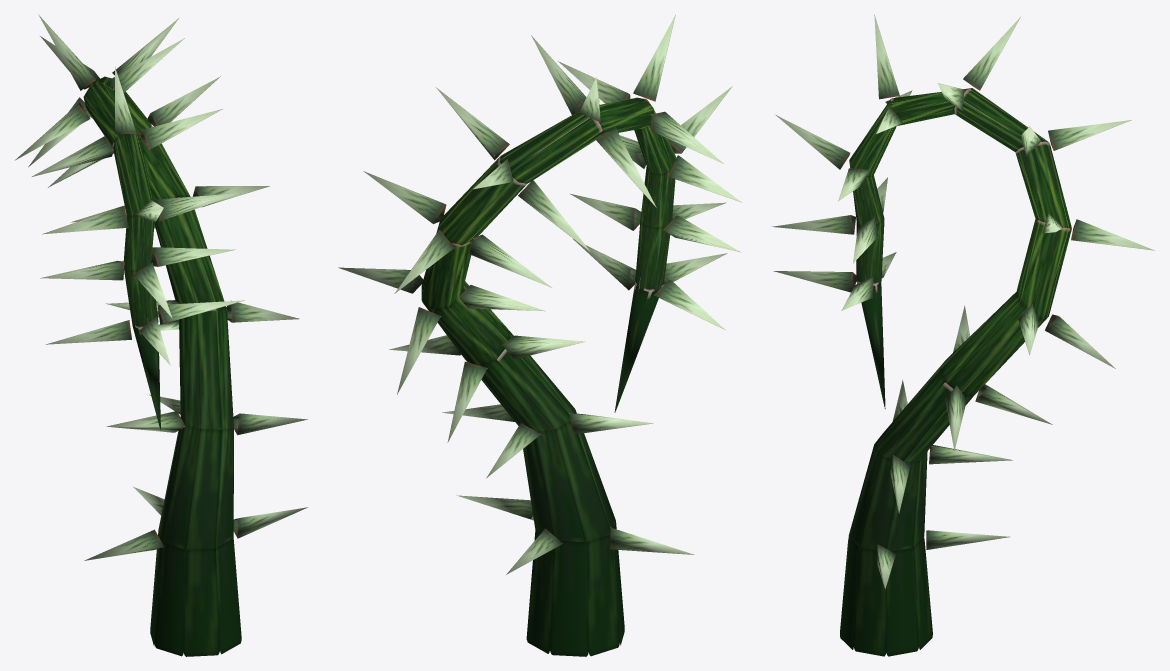
3 views of the same model, side by side, from view 1: azimuth 30°, elevation 25°; view 2: azimuth 150°, elevation 25°; view 3: azimuth 270°, elevation 25° (orthographic). The views are drawn at different scales.
Visible parts, largest first — view 1: T1L4M006_1; view 2: T1L4M006_1; view 3: T1L4M006_1.
Part boxes in pixels (bbox=[...]): T1L4M006_1: bbox=[15, 14, 307, 656]; T1L4M006_1: bbox=[338, 15, 741, 656]; T1L4M006_1: bbox=[772, 14, 1154, 656].
Size of the model in its own units: 2.74 by 5.13 by 3.07.
